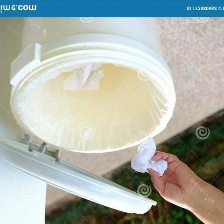tissue: (125, 132, 175, 180), (57, 58, 107, 96)
